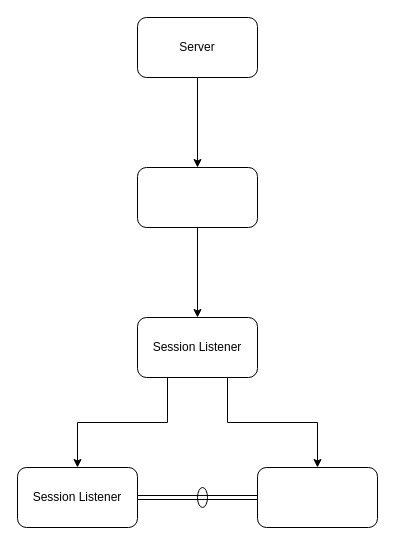
The diagram is 395 pixels wide and 545 high, and some of its shapes have lost their labels. The centre of each missing label's shape, as x and y in pixels:
Main Listener: the point at 197,197
Session Processor: the point at 317,497
